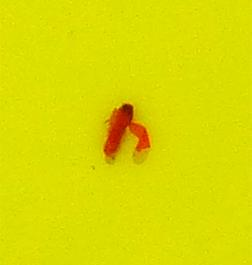Hemiptera: (100, 100, 152, 165)
